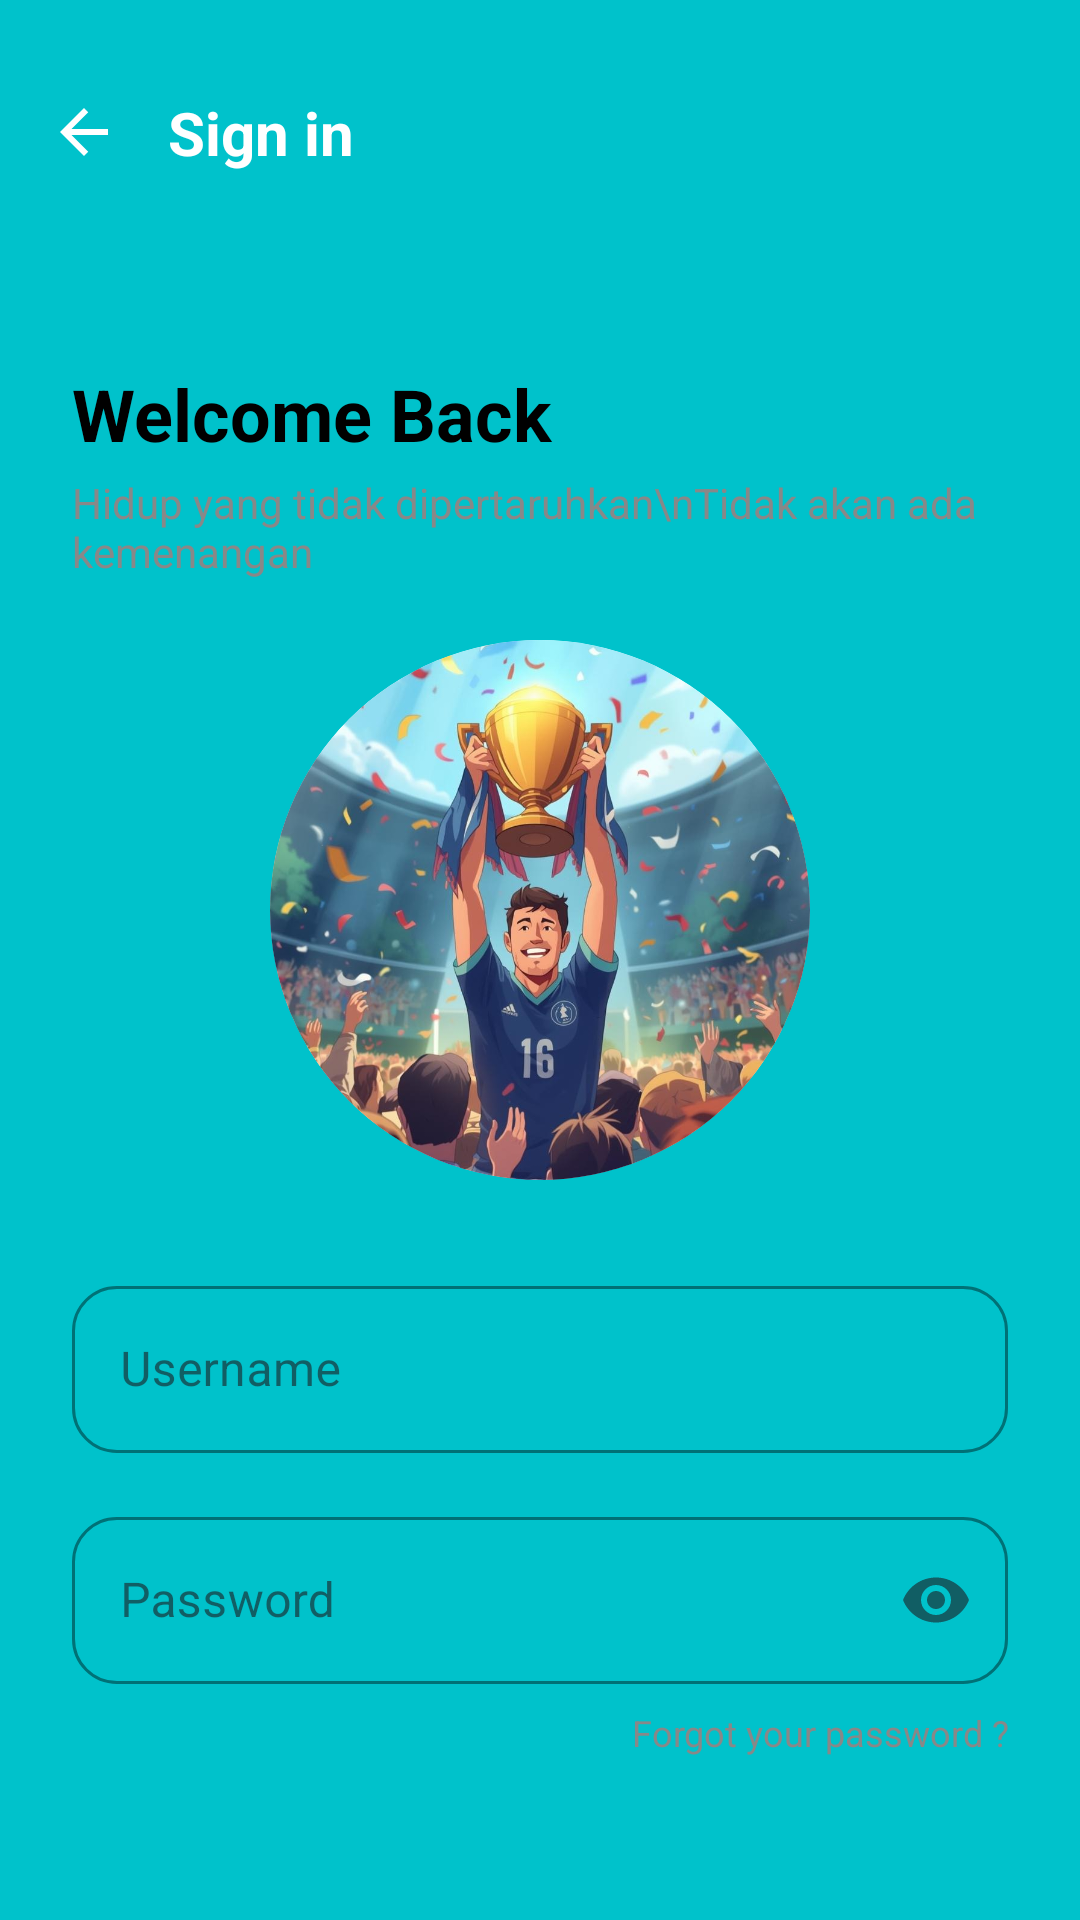

Point at icon controls on the screen. Image size 1080px x 1920px, points as (x,y).
arrow back: (84,132)
